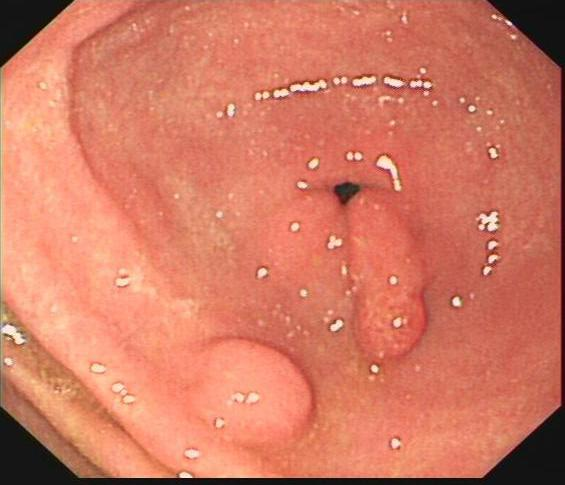Polyp: (185, 334, 321, 439), (344, 287, 426, 372)
